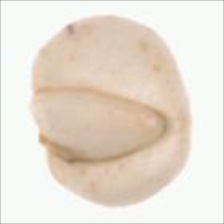L5: (33, 85, 171, 162), (175, 77, 198, 165)
L6: (24, 12, 202, 206)
